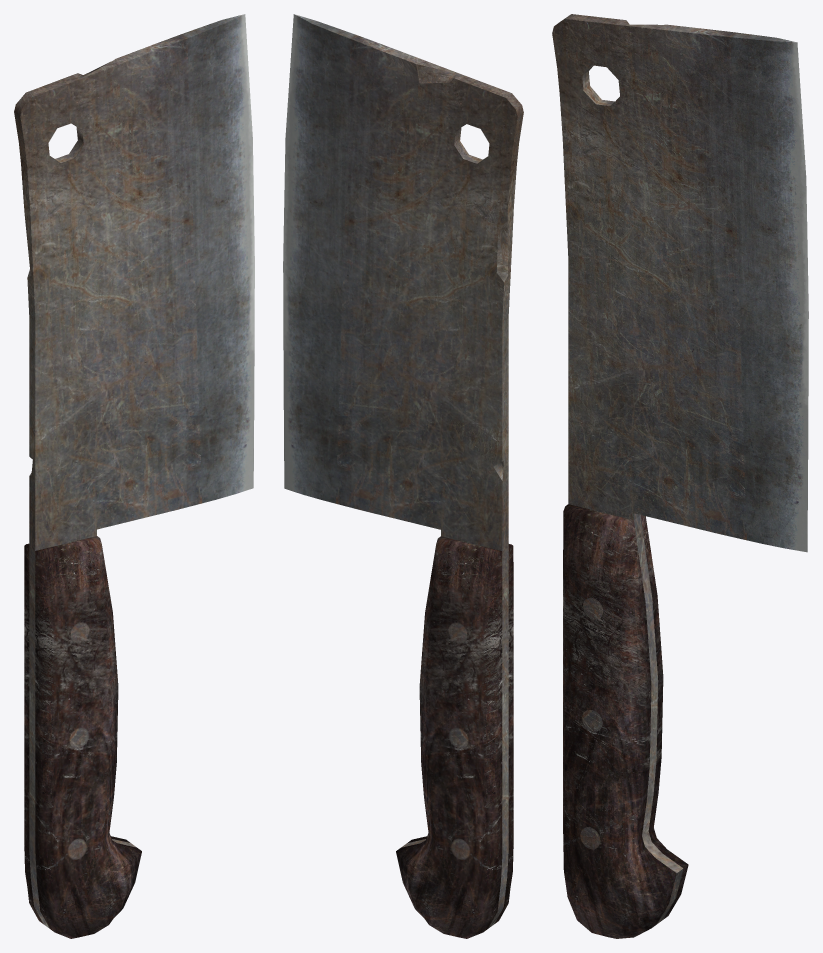
Rendered from Hackebeil.obj.
3 renders of one model, left to right at view 1: azimuth 30°, elevation 25°; view 2: azimuth 150°, elevation 25°; view 3: azimuth 330°, elevation 25°, orthographic. The views are drawn at different scales.
Parts seen in each view (by area): view 1: Meatcleaver:0; view 2: Meatcleaver:0; view 3: Meatcleaver:0.
Boxes of the visible parts, x1,y1,x2,y2 form: Meatcleaver:0: (14,14,254,938); Meatcleaver:0: (283,14,523,938); Meatcleaver:0: (552,14,808,938).
Bounding box in the file's own units: 9.96 × 35.03 × 1.99.
Materials: 1 (1 with a texture image).
